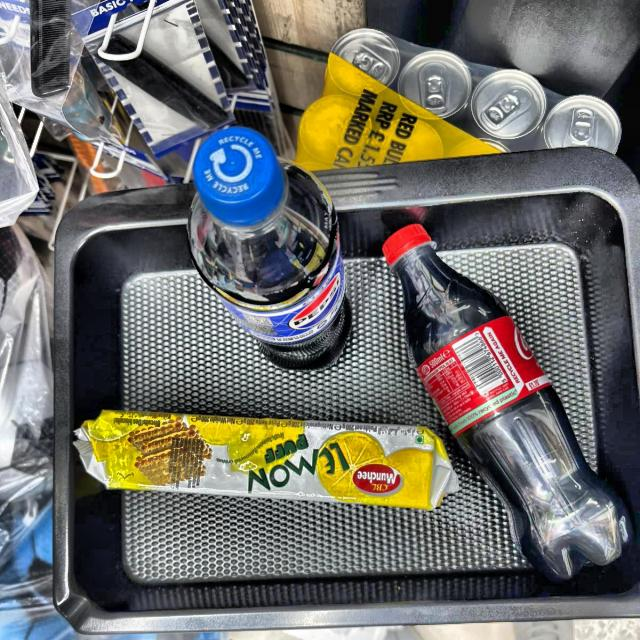coke-bottle: (382, 227, 626, 579)
lemon puff: (84, 413, 462, 513)
pepsi-bottle: (181, 125, 347, 365)
